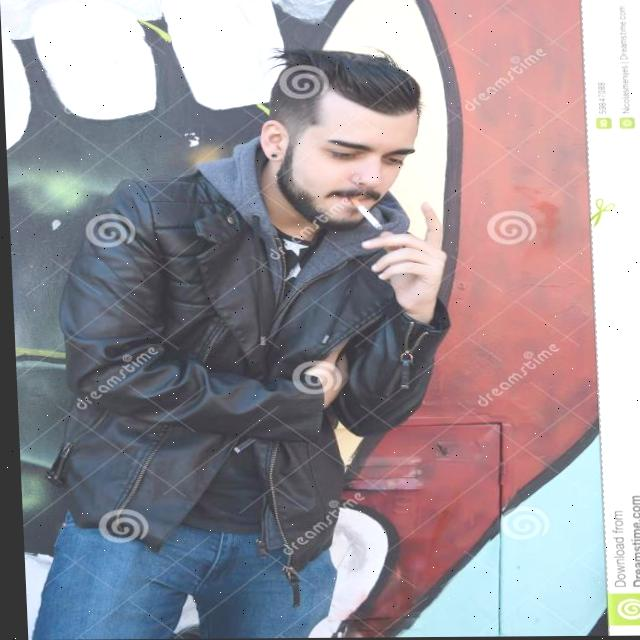cigarette: (347, 195, 382, 233)
